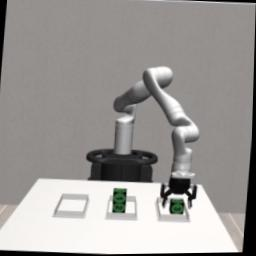cube1: (113, 188, 129, 204)
cube2: (113, 200, 127, 213)
cube3: (170, 200, 186, 215)
